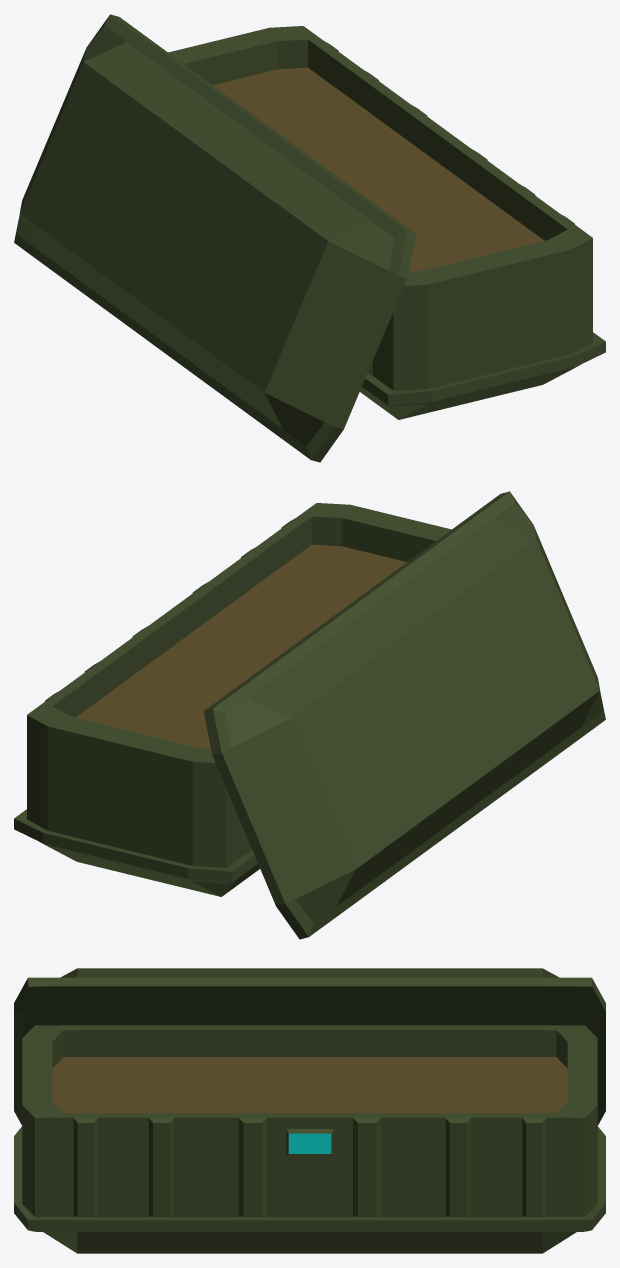
Rendered from open weaponcrate.fbx.
The picture shows the model from 3 angles, top to bottom: view 1: azimuth 30°, elevation 25°; view 2: azimuth 150°, elevation 25°; view 3: azimuth 270°, elevation 25°; orthographic projection. The views are drawn at different scales.
Parts seen in each view (by area): view 1: Cube.001, Cube, Cube_cell, Cube.001_cell.001, Cube.001_cell, Cube.001_cell.004, Cube_cell.005, Cube.001_cell.003, Cube.001_cell.002, Cube_cell.003, Cube_cell.007, Cube_cell.004 (+1 smaller); view 2: Cube.001, Cube, Cube_cell.005, Cube_cell.006, Cube.001_cell.001, Cube.001_cell, Cube.001_cell.004, Cube.001_cell.002, Cube.001_cell.003, Cube_cell.007, Cube_cell.003, Cube_cell.008 (+2 smaller); view 3: Cube, Cube_cell.003, Cube_cell.005, Cube.001_cell.003, Cube.001, Cube_cell.007, Cube_cell.004, Cube_cell.008, Cube_cell.002, Cube_cell.006, Cube.001_cell.001, Cube.001_cell.004 (+1 smaller).
Part boxes in pixels (x1,y1,x2,y2): Cube.001: [14, 14, 416, 460]; Cube: [178, 26, 605, 419]; Cube_cell: [362, 268, 494, 415]; Cube.001_cell.001: [55, 26, 231, 184]; Cube.001_cell: [64, 179, 184, 327]; Cube.001_cell.004: [150, 244, 385, 462]; Cube_cell.005: [206, 26, 395, 131]; Cube.001_cell.003: [244, 147, 415, 300]; Cube.001_cell.002: [14, 99, 87, 296]; Cube_cell.003: [460, 224, 592, 404]; Cube_cell.007: [325, 93, 420, 174]; Cube_cell.004: [250, 112, 331, 171]; Cube.001: [203, 492, 605, 939]; Cube: [20, 503, 451, 896]; Cube_cell.005: [14, 647, 175, 859]; Cube_cell.006: [111, 731, 239, 882]; Cube.001_cell.001: [204, 626, 401, 796]; Cube.001_cell: [374, 698, 485, 871]; Cube.001_cell.004: [458, 571, 605, 824]; Cube.001_cell.002: [232, 779, 399, 935]; Cube.001_cell.003: [409, 491, 549, 617]; Cube_cell.007: [120, 632, 258, 695]; Cube_cell.003: [241, 516, 412, 561]; Cube_cell.008: [139, 587, 290, 661]; Cube: [14, 1025, 605, 1253]; Cube_cell.003: [22, 1111, 250, 1253]; Cube_cell.005: [409, 1073, 605, 1231]; Cube.001_cell.003: [14, 968, 377, 1033]; Cube.001: [14, 968, 605, 1125]; Cube_cell.007: [217, 1098, 475, 1253]; Cube_cell.004: [331, 1025, 495, 1112]; Cube_cell.008: [245, 1113, 370, 1230]; Cube_cell.002: [478, 1025, 555, 1098]; Cube_cell.006: [548, 1025, 605, 1170]; Cube.001_cell.001: [374, 968, 605, 1041]; Cube.001_cell.004: [14, 1034, 25, 1121].
Bounding box in the file's own units: 175 × 112 × 300.
